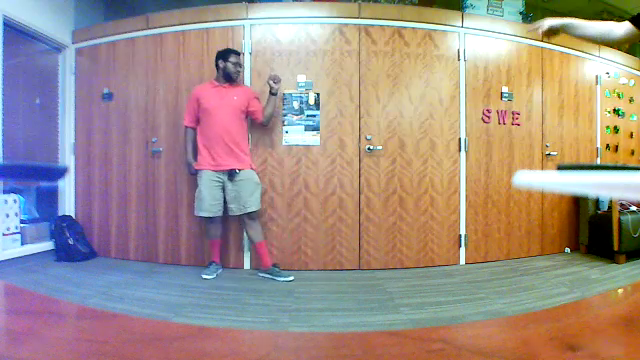up: (264, 62, 283, 96)
